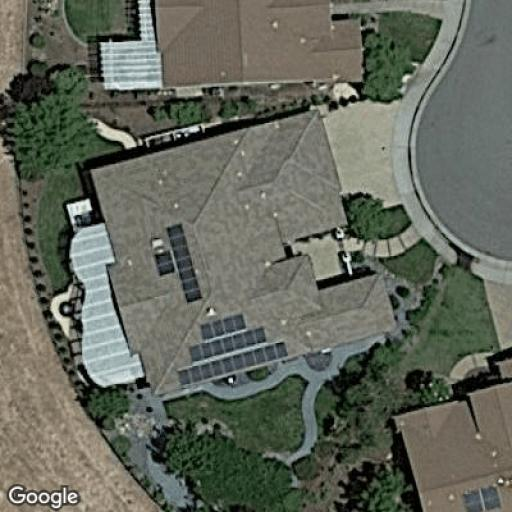solar-panel: (175, 312, 290, 388), (148, 222, 206, 305), (460, 484, 504, 512)
